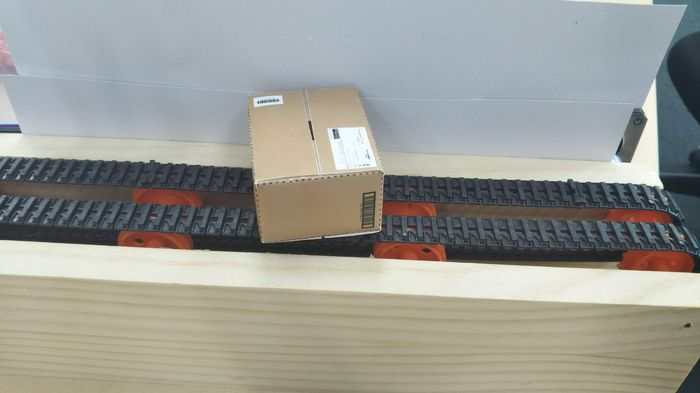box1: (242, 80, 387, 245)
